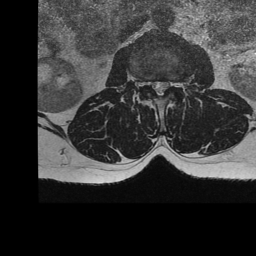CCS_stenosis: (157, 74, 163, 102)
LFS_stenosis: (171, 75, 178, 94)
LLS_normal: (163, 74, 170, 97)
RFS_stenosis: (143, 73, 149, 92)
RLS_stenosis: (149, 74, 157, 96)
